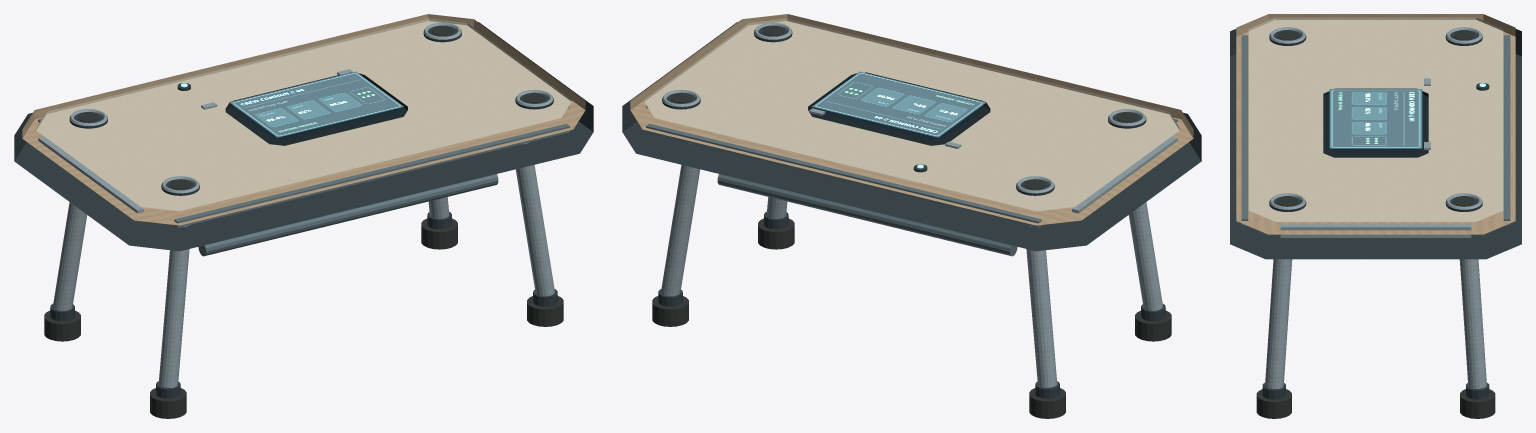
Rendered from common_table.glb.
3 renders of one model, left to right at view 1: azimuth 30°, elevation 25°; view 2: azimuth 150°, elevation 25°; view 3: azimuth 270°, elevation 25°, orthographic. The views are drawn at different scales.
Parts seen in each view (by area): view 1: static__cream, static__graphite, static__alloy, static__bamboo, static__trim, Display__tablet_screen, static__rubber, Display__carbon, Display__screen; view 2: static__cream, static__graphite, static__alloy, static__bamboo, static__trim, Display__tablet_screen, static__rubber, Display__carbon, Display__screen; view 3: static__cream, static__graphite, static__alloy, static__bamboo, Display__tablet_screen, static__trim, static__rubber, Display__carbon, Display__screen.
Boxes of the visible parts, box(x1,y1,x2,y2) form: static__cream: box(36, 18, 571, 211); static__graphite: box(14, 22, 593, 398); static__alloy: box(38, 22, 569, 387); static__bamboo: box(22, 14, 585, 225); static__trim: box(38, 118, 569, 256); Display__tablet_screen: box(229, 71, 403, 137); static__rubber: box(44, 26, 563, 418); Display__carbon: box(225, 74, 407, 145); Display__screen: box(230, 72, 403, 139); static__cream: box(644, 18, 1179, 211); static__graphite: box(622, 22, 1201, 398); static__alloy: box(646, 22, 1177, 387); static__bamboo: box(630, 14, 1193, 225); static__trim: box(646, 118, 1177, 256); Display__tablet_screen: box(812, 71, 986, 137); static__rubber: box(652, 26, 1171, 418); Display__carbon: box(808, 74, 990, 145); Display__screen: box(812, 72, 985, 139); static__cream: box(1248, 17, 1503, 221); static__graphite: box(1230, 29, 1521, 399); static__alloy: box(1265, 27, 1486, 388); static__bamboo: box(1236, 14, 1515, 234); Display__tablet_screen: box(1329, 89, 1422, 148); static__trim: box(1241, 35, 1510, 225); static__rubber: box(1256, 30, 1495, 418); Display__carbon: box(1323, 92, 1428, 157); Display__screen: box(1327, 88, 1424, 152).
Size of the model in its own units: 1.81 by 0.8145 by 1.02.
11 materials, 11 textured.
